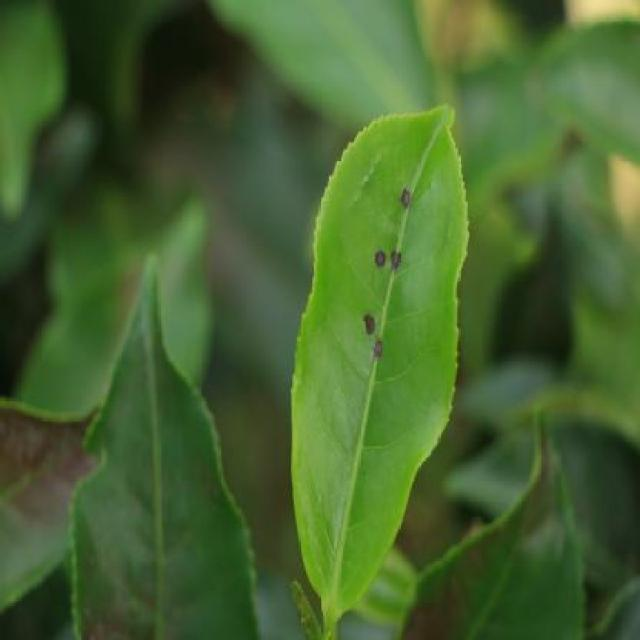Tea Mosquito bug infested leaf: (284, 83, 484, 608)
